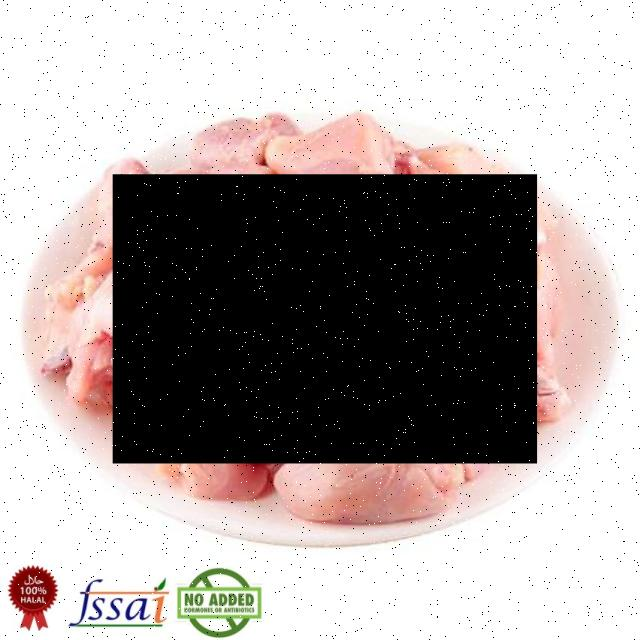Chicken: (113, 174, 537, 463)
